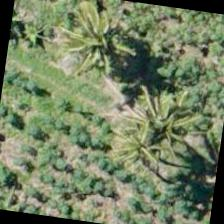Kelapa_Sawit: (83, 94, 184, 196), (46, 0, 148, 88)
